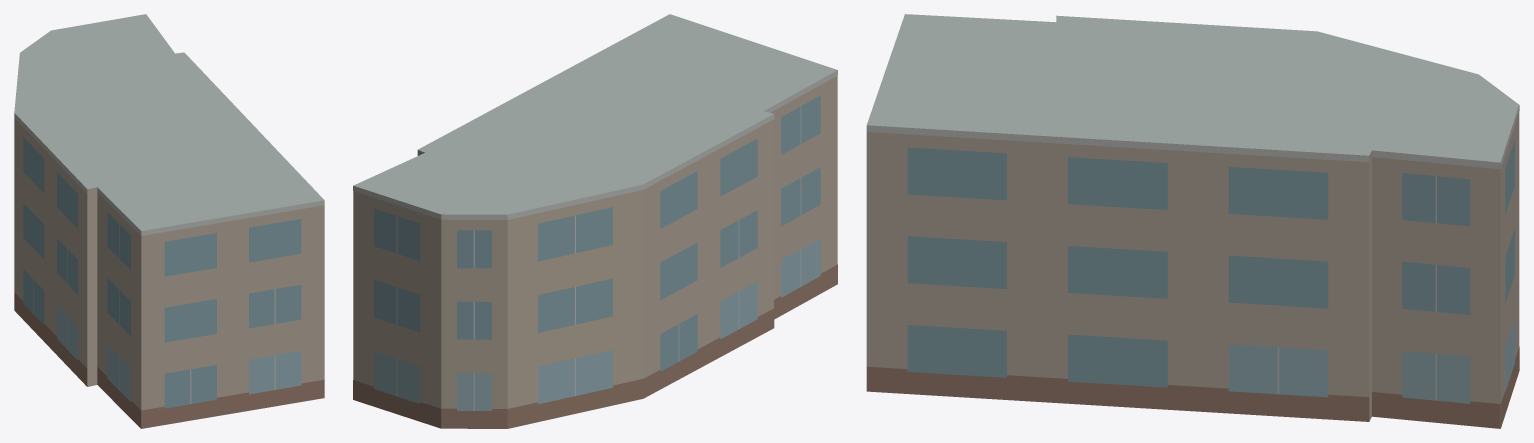
Rendered from survey-upis-32511702.glb.
3 renders of one model, left to right at view 1: azimuth 30°, elevation 25°; view 2: azimuth 150°, elevation 25°; view 3: azimuth 270°, elevation 25°, orthographic. The views are drawn at different scales.
Parts seen in each view (by area): view 1: survey-upis-32511702.tmp; view 2: survey-upis-32511702.tmp; view 3: survey-upis-32511702.tmp.
Part boxes in pixels (x1,y1,x2,y2): survey-upis-32511702.tmp: (14, 14, 324, 428); survey-upis-32511702.tmp: (353, 14, 837, 428); survey-upis-32511702.tmp: (866, 14, 1519, 428).
Bounding box in the file's own units: 11.74 × 9.8 × 21.79.
